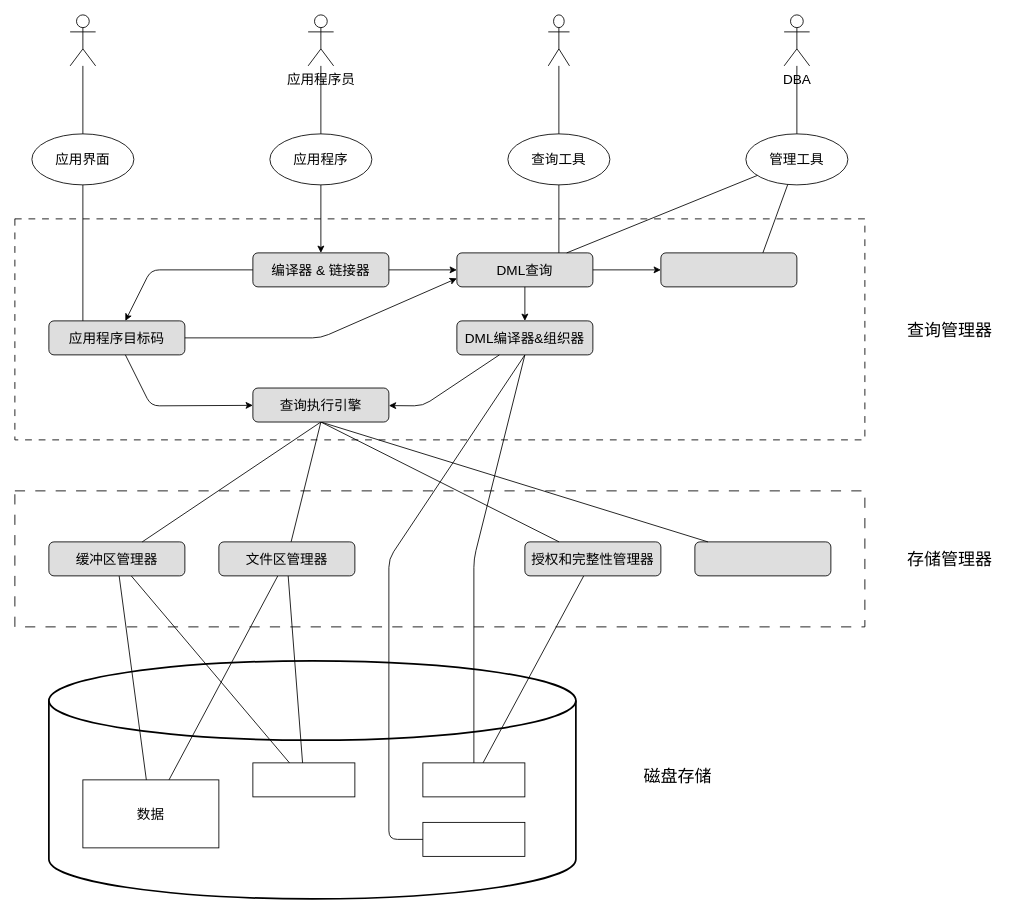
Some shapes in this 1016 by 915 pixel diagram are drawn without their labels. Each missing label, with the centre of its shape:
"DDL解释器" belongs at point 728,269.
"事务管理器" belongs at point 762,558.
"分析员" belongs at point 558,40.
"数据字典" belongs at point 473,779.
"普通用户" belongs at point 82,40.
"索引" belongs at point 303,779.
"统计数据" belongs at point 473,839.
